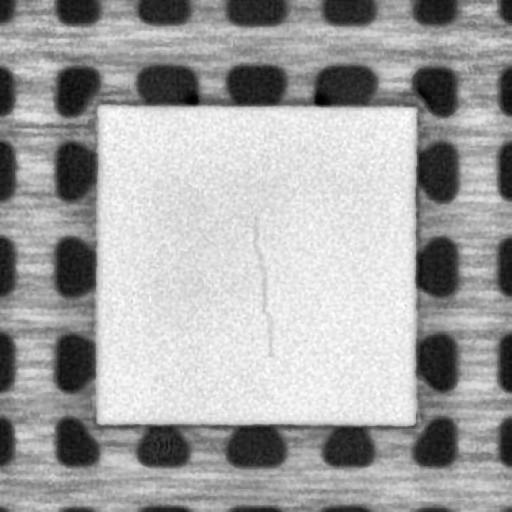DIE_CRACK: (242, 209, 272, 354)
